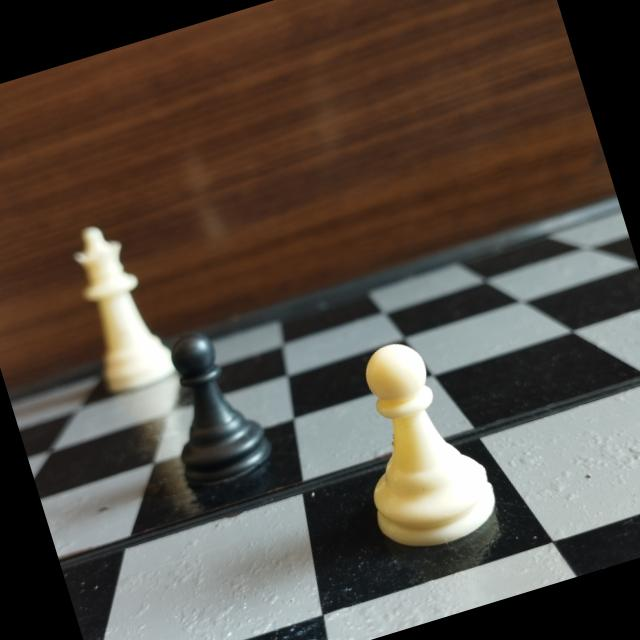Black Pawn: (143, 311, 285, 500)
White Pawn: (322, 321, 509, 568)
White Queen: (60, 209, 185, 401)
